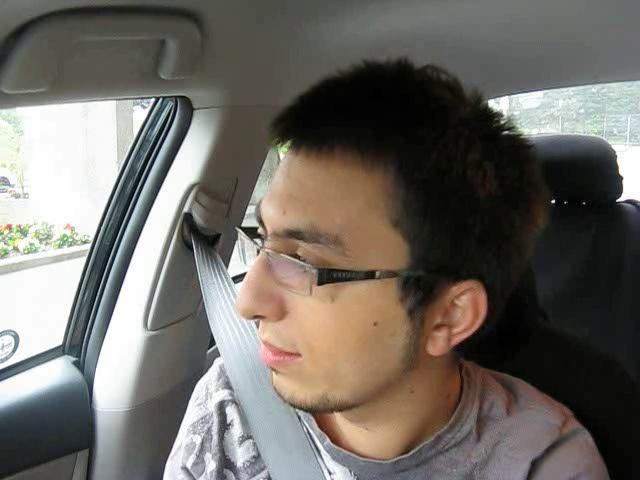no_yawn: (242, 324, 319, 377)
open_eyeR: (256, 236, 332, 289)
